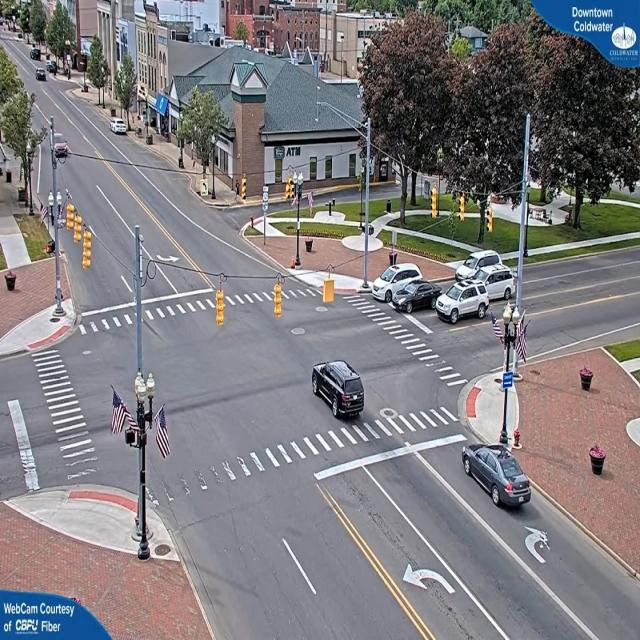car: (463, 442, 533, 507), (310, 358, 366, 418), (434, 281, 489, 322), (396, 274, 436, 318), (373, 260, 418, 299), (484, 263, 516, 302)
